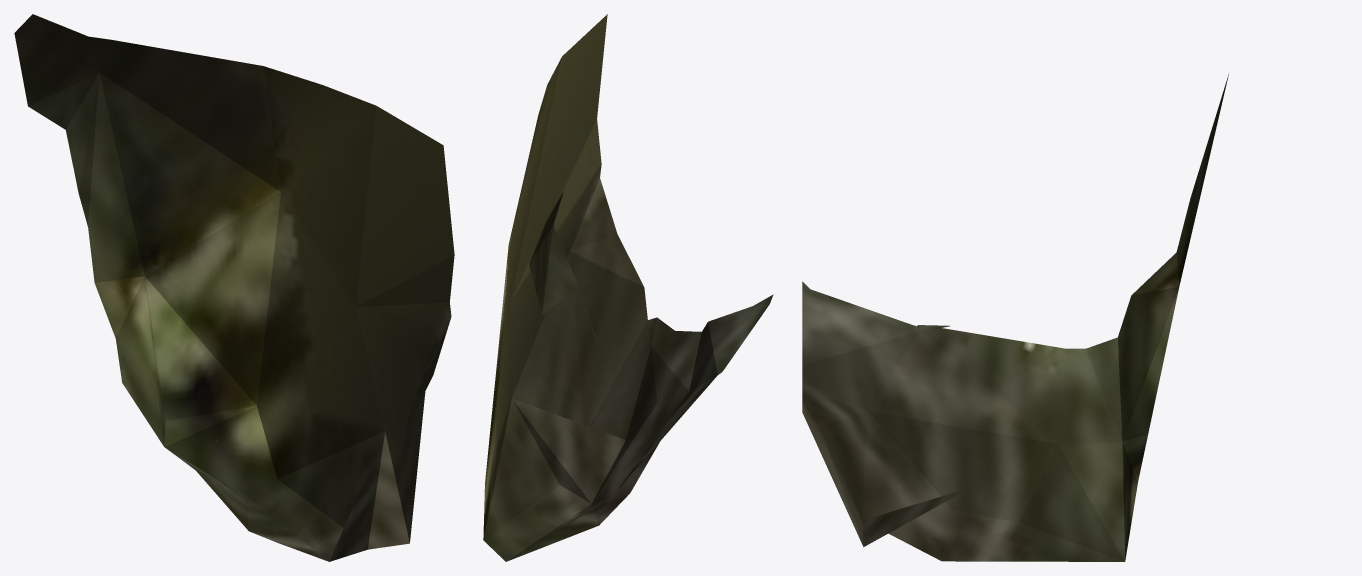
The picture shows the model from 3 angles, left to right: view 1: azimuth 30°, elevation 25°; view 2: azimuth 150°, elevation 25°; view 3: azimuth 270°, elevation 25°; orthographic projection. The views are drawn at different scales.
Bounding box in the file's own units: 0.4382 × 0.9746 × 0.9978.
1 material, 1 textured.
